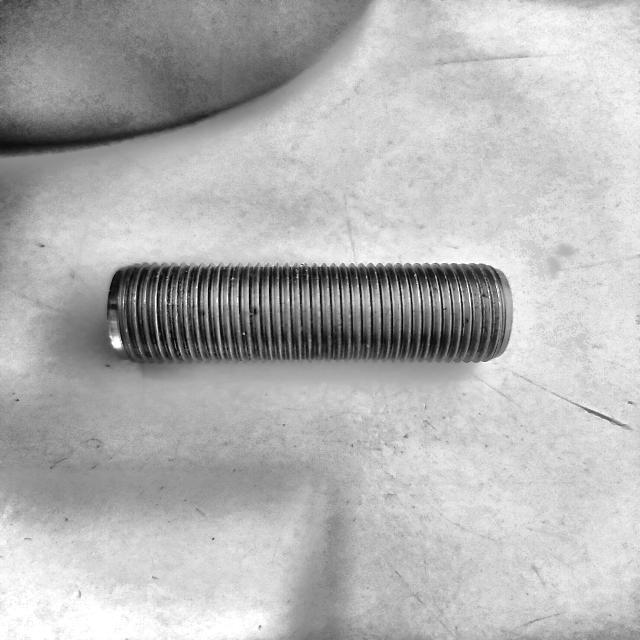Normal: (107, 260, 512, 366)
